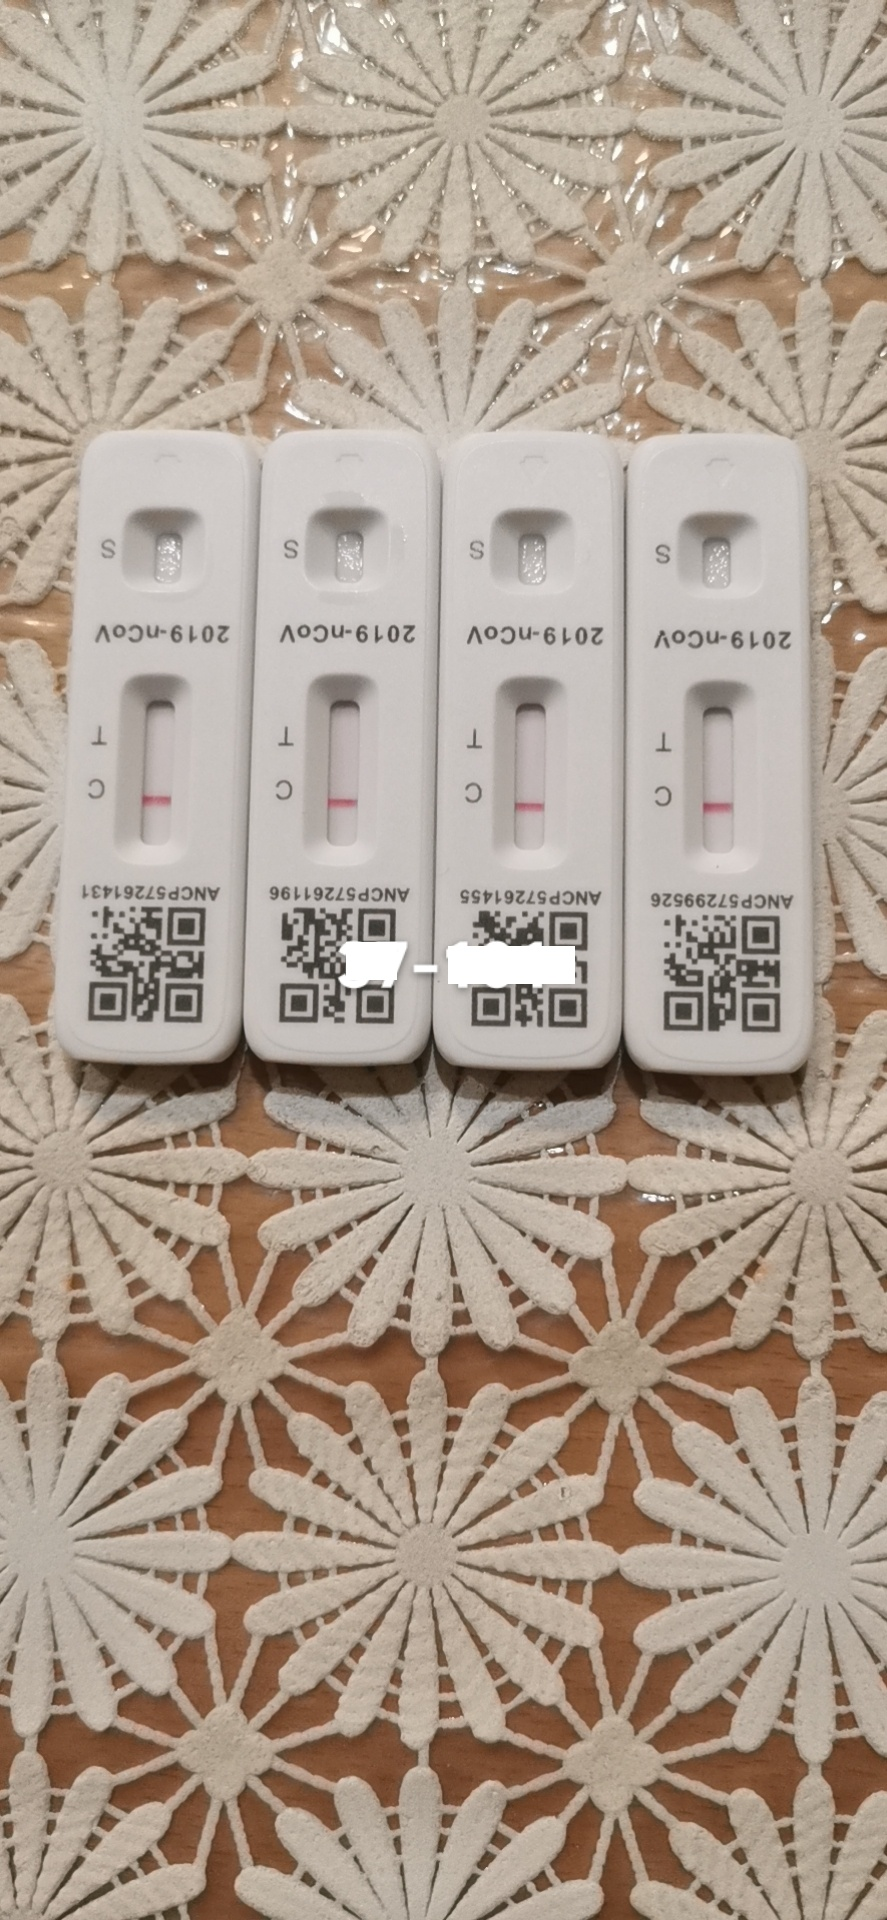negative: (114, 672, 191, 867), (678, 682, 756, 873), (490, 675, 566, 863), (304, 672, 379, 862)
